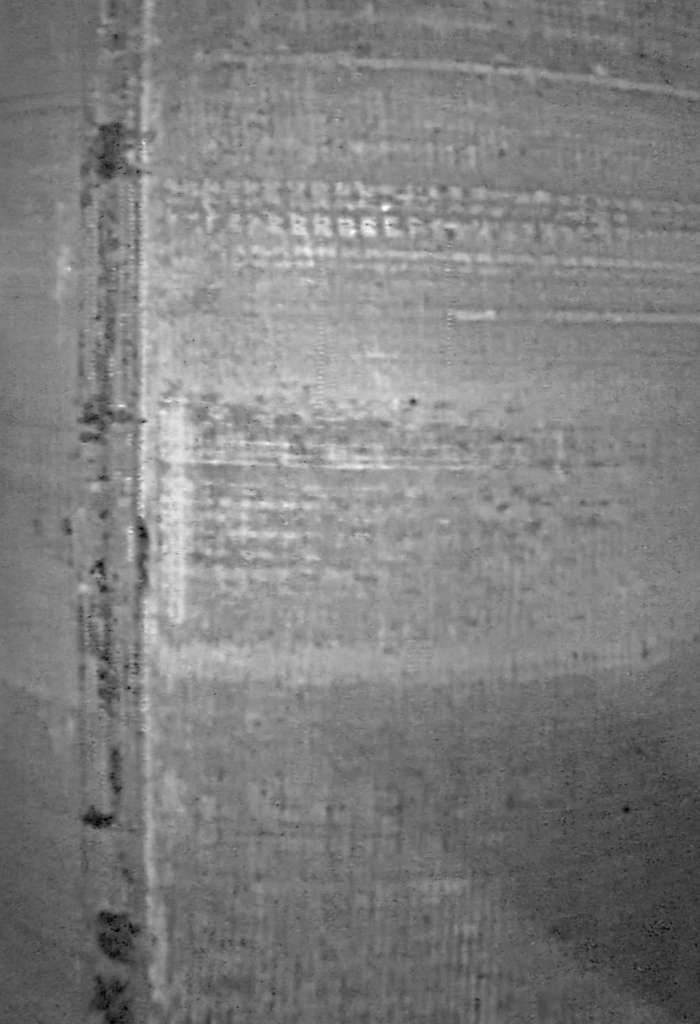splice: (66, 1, 168, 1024)
